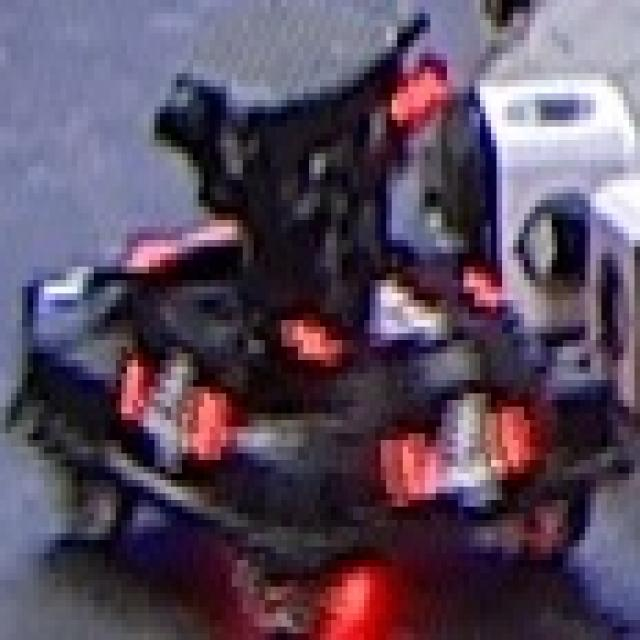R4: (270, 253, 508, 360), (367, 380, 543, 507), (91, 330, 246, 470)
